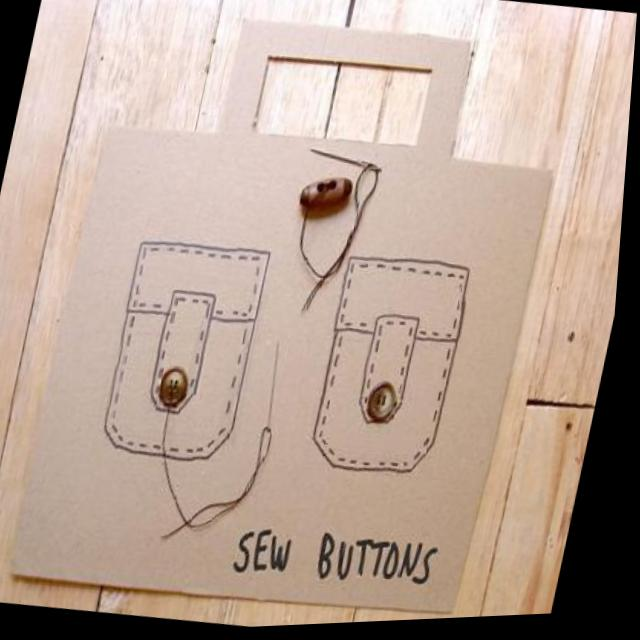box: (9, 0, 590, 638)
